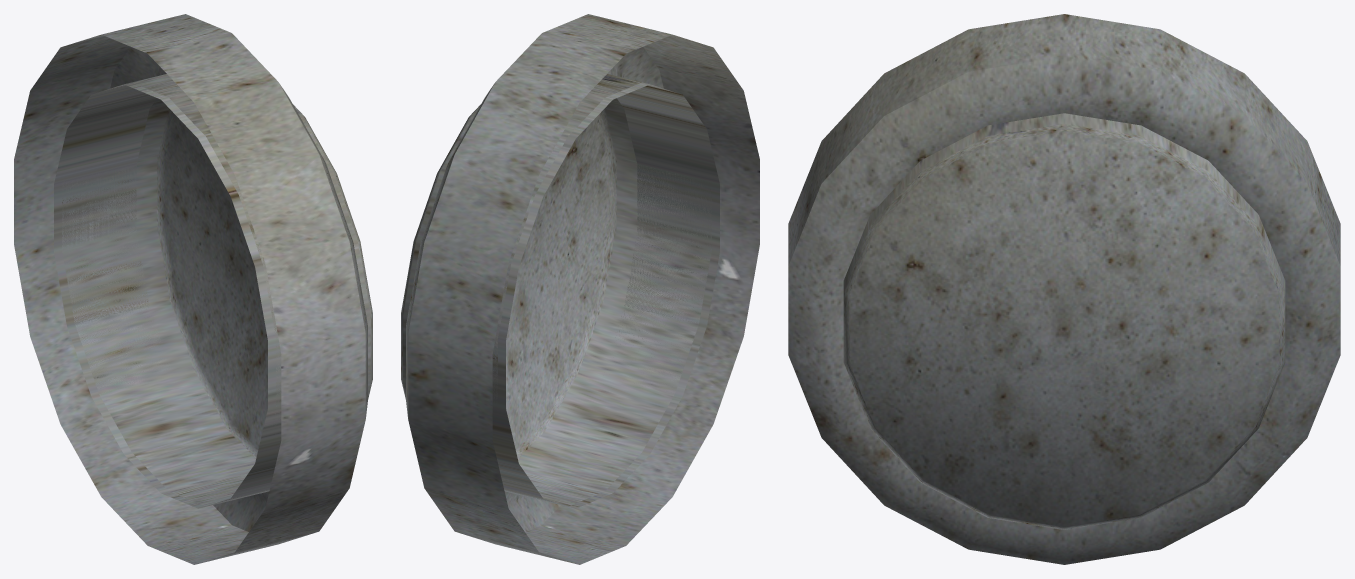
The model's file is Secret_Switcher.FBX.
The picture shows the model from 3 angles, left to right: view 1: azimuth 30°, elevation 25°; view 2: azimuth 150°, elevation 25°; view 3: azimuth 270°, elevation 25°; orthographic projection. The views are drawn at different scales.
Visible parts, largest first — view 1: Secret_Switch_Ring, Secret_Switch_Button; view 2: Secret_Switch_Ring, Secret_Switch_Button; view 3: Secret_Switch_Button, Secret_Switch_Ring.
Boxes of the visible parts, x1,y1,x2,y2 form: Secret_Switch_Ring: [14, 14, 367, 564]; Secret_Switch_Button: [62, 74, 372, 506]; Secret_Switch_Ring: [406, 14, 759, 564]; Secret_Switch_Button: [401, 74, 711, 506]; Secret_Switch_Button: [843, 113, 1285, 529]; Secret_Switch_Ring: [788, 14, 1340, 564].
Bounding box in the file's own units: 7.8 × 25.59 × 25.2.
